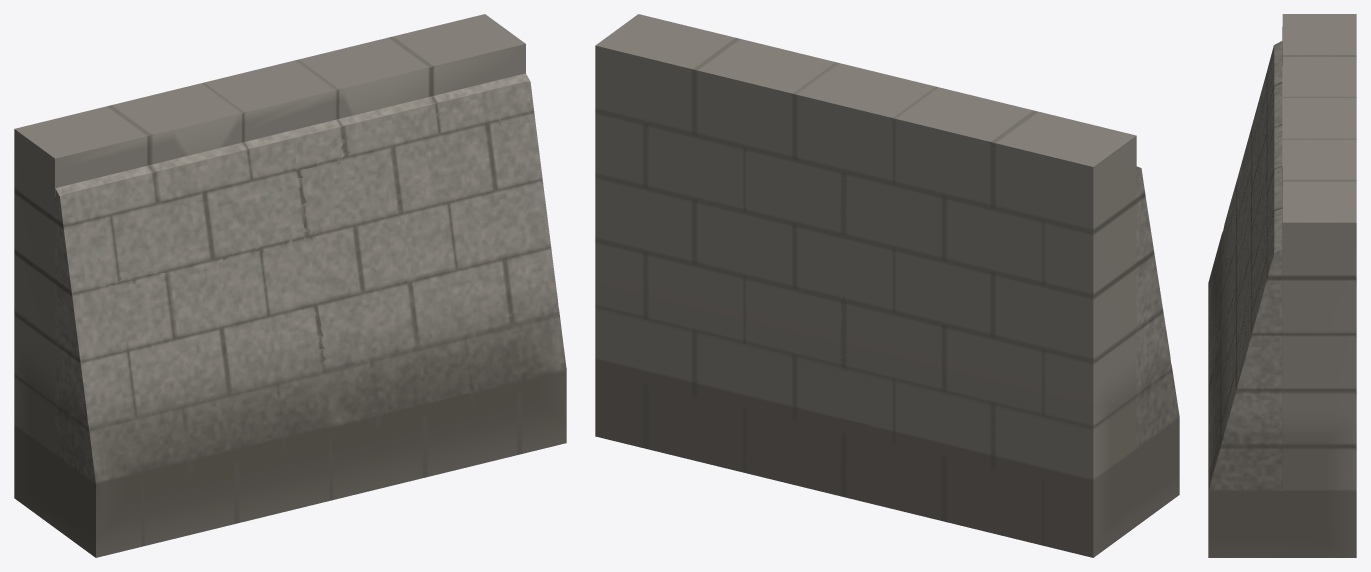
The model's file is ke_da_bai_truoc.glb.
3 views of the same model, side by side, from view 1: azimuth 30°, elevation 25°; view 2: azimuth 150°, elevation 25°; view 3: azimuth 270°, elevation 25° (orthographic). The views are drawn at different scales.
Parts seen in each view (by area): view 1: drawing; view 2: drawing; view 3: drawing.
Part boxes in pixels (x1,y1,x2,y2): drawing: (14, 14, 566, 557); drawing: (595, 14, 1179, 557); drawing: (1208, 14, 1356, 557).
Size of the model in its own units: 2 by 1.5 by 0.6.
Materials: 1 (1 with a texture image).
